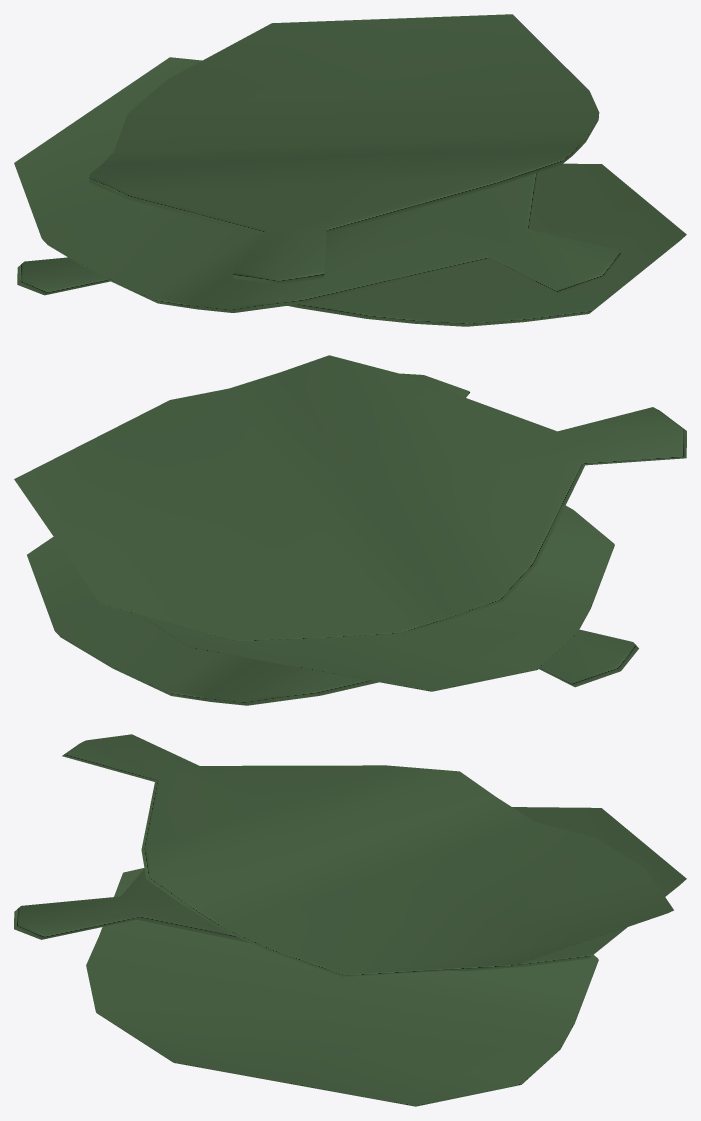
The model's file is SM_LettuceLeaf3.fbx.
3 views of the same model, one above another, from view 1: azimuth 30°, elevation 25°; view 2: azimuth 150°, elevation 25°; view 3: azimuth 270°, elevation 25° (orthographic).
Parts seen in each view (by area): view 1: LettuceLeaf3; view 2: LettuceLeaf3; view 3: LettuceLeaf3.
Part boxes in pixels (x1,y1,x2,y2): LettuceLeaf3: (14, 14, 686, 326); LettuceLeaf3: (14, 355, 686, 705); LettuceLeaf3: (14, 734, 686, 1106).
Size of the model in its own units: 12.93 by 3.62 by 12.75.
